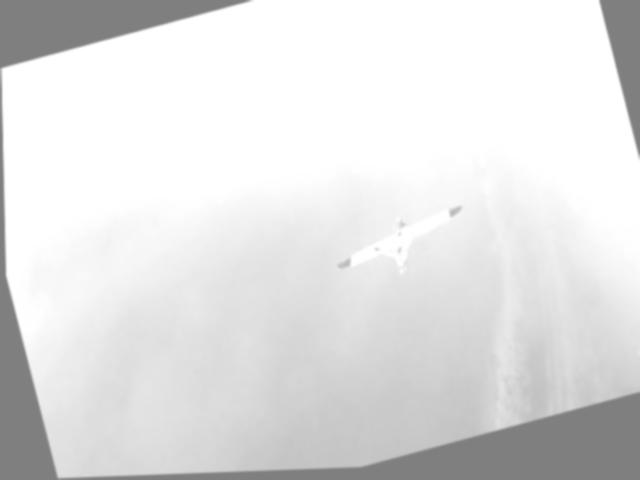hedef: (310, 180, 487, 305)
